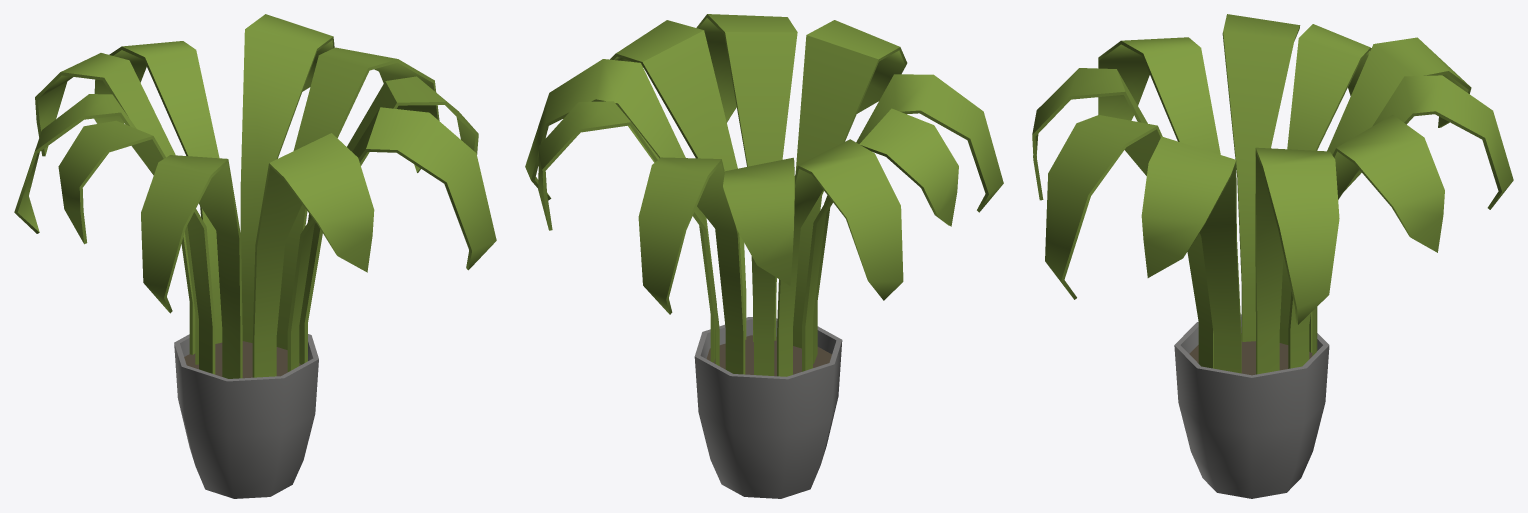
File: Houseplant_6.glb
3 views of the same model, side by side, from view 1: azimuth 30°, elevation 25°; view 2: azimuth 150°, elevation 25°; view 3: azimuth 270°, elevation 25° (orthographic). The views are drawn at different scales.
Visible parts, largest first — view 1: Houseplant_6_Cylinder.015; view 2: Houseplant_6_Cylinder.015; view 3: Houseplant_6_Cylinder.015.
Part boxes in pixels (left/top/right/bottom): Houseplant_6_Cylinder.015: left=14, top=14, right=496, bottom=498; Houseplant_6_Cylinder.015: left=525, top=14, right=1003, bottom=498; Houseplant_6_Cylinder.015: left=1032, top=14, right=1513, bottom=498.
Size of the model in its own units: 1.04 by 0.9586 by 1.05.
